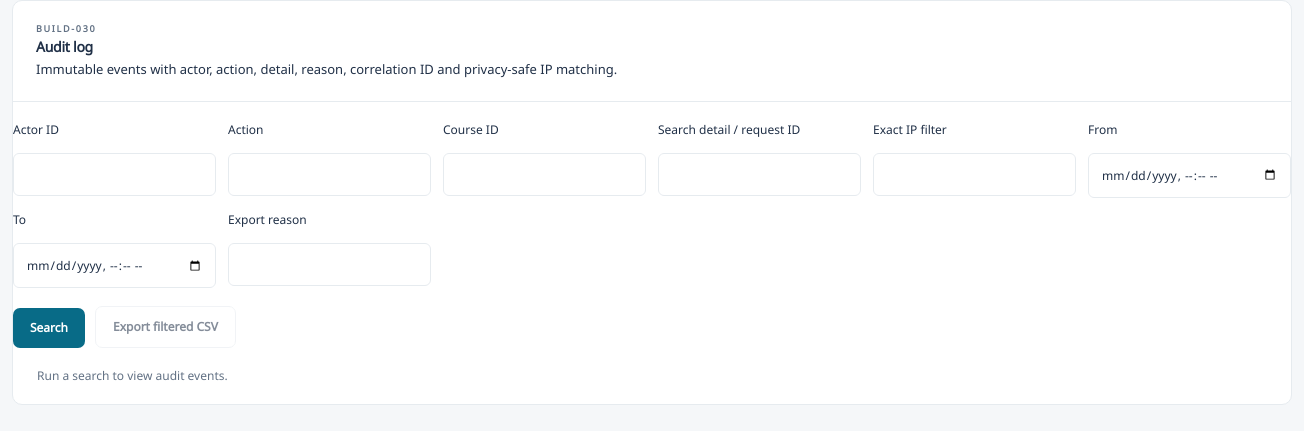
Test: Workspace shell and clearly isolated previews › searches the authorized audit view through the live API
Click the button "Search": [49, 328] box [13,308,85,348]
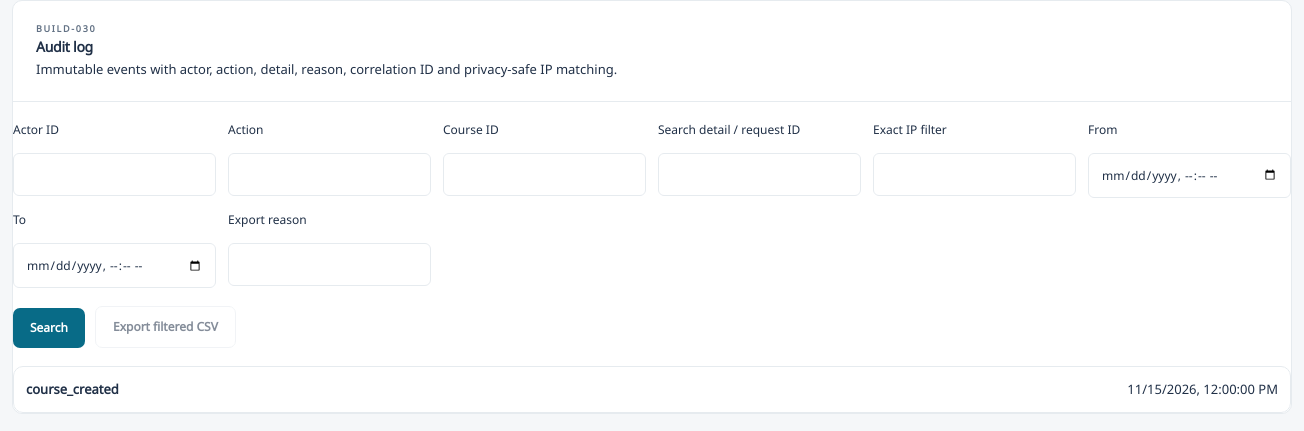
Expected: the text "course_created" is shown, [26,379,119,400]
